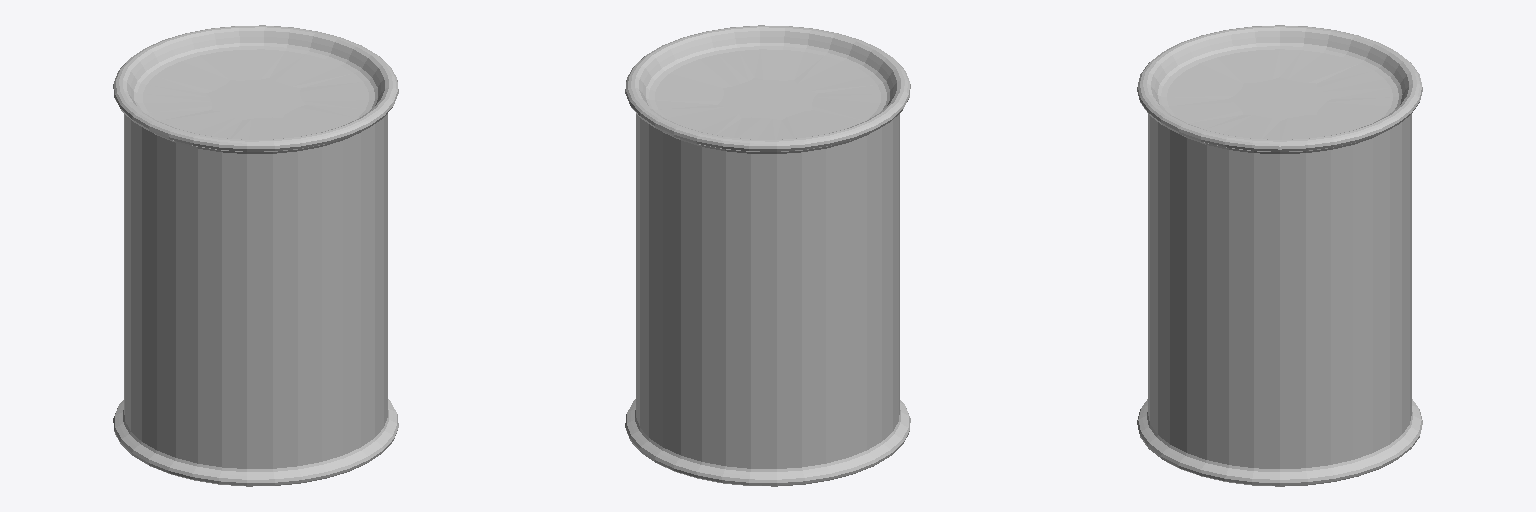
The model's file is LataSopa3x4.obj.
3 renders of one model, left to right at view 1: azimuth 30°, elevation 25°; view 2: azimuth 150°, elevation 25°; view 3: azimuth 270°, elevation 25°, orthographic.
Parts seen in each view (by area): view 1: LataSopa3x4_LataSopa3x4; view 2: LataSopa3x4_LataSopa3x4; view 3: LataSopa3x4_LataSopa3x4.
Boxes of the visible parts, <box> form: LataSopa3x4_LataSopa3x4: <box>113,25,398,486</box>; LataSopa3x4_LataSopa3x4: <box>625,25,910,486</box>; LataSopa3x4_LataSopa3x4: <box>1137,25,1422,486</box>.
Bounding box in the file's own units: 3.01 × 4 × 3.01.